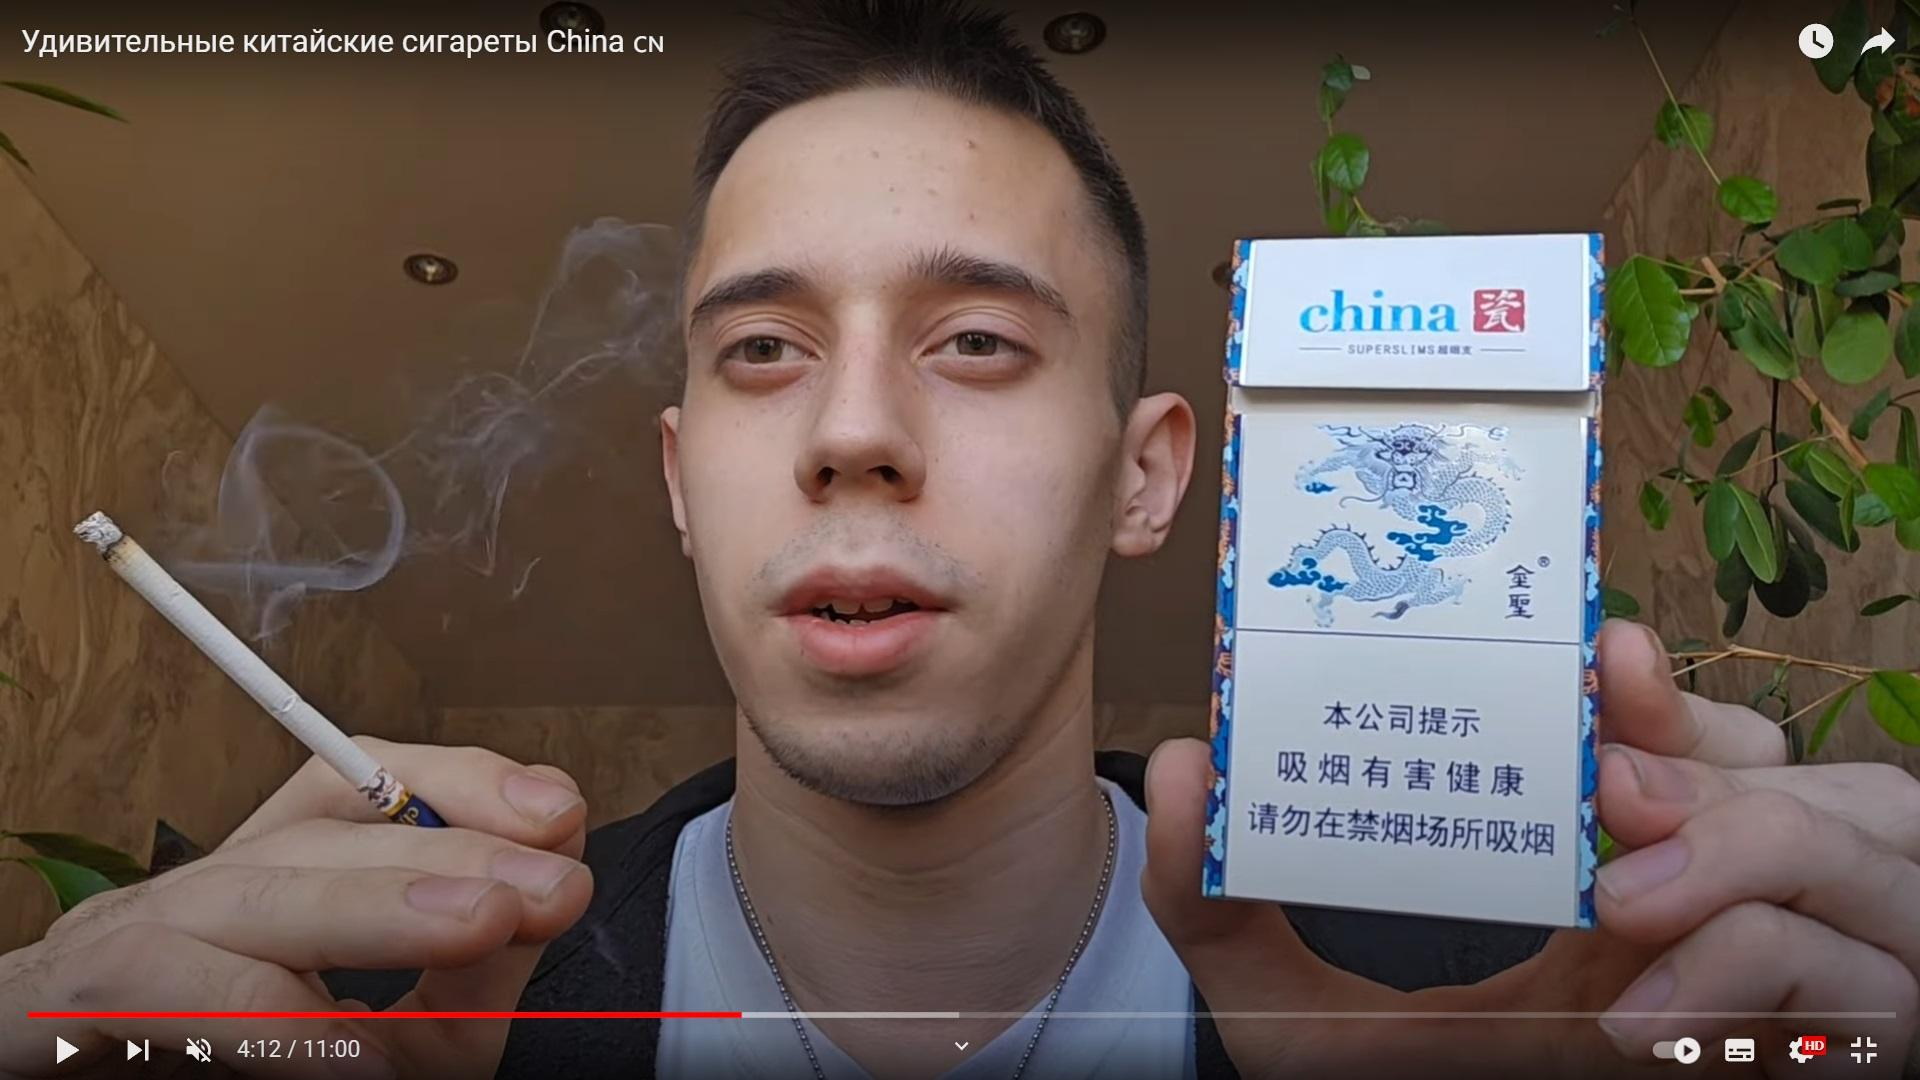cigarette: (73, 510, 450, 828)
